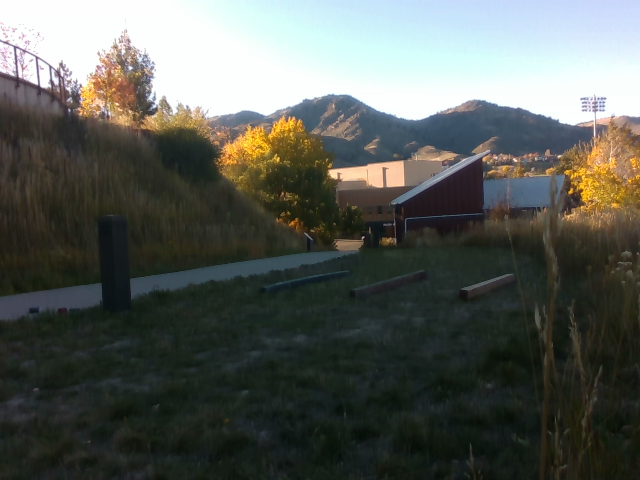Dunnage: (251, 255, 531, 305)
